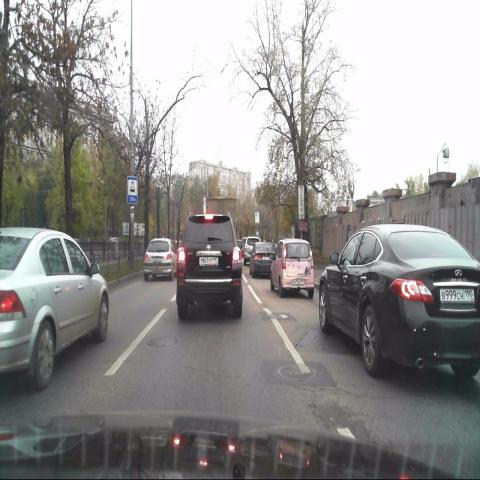7_5: (126, 175, 138, 205)
